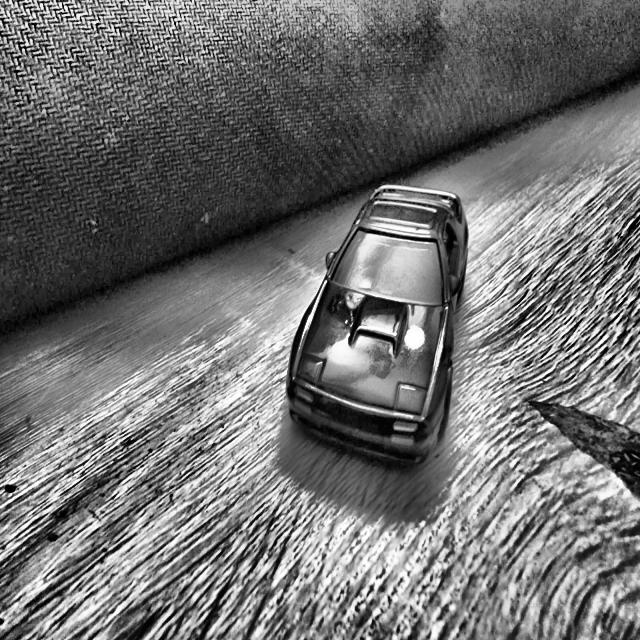car: (286, 183, 468, 465)
